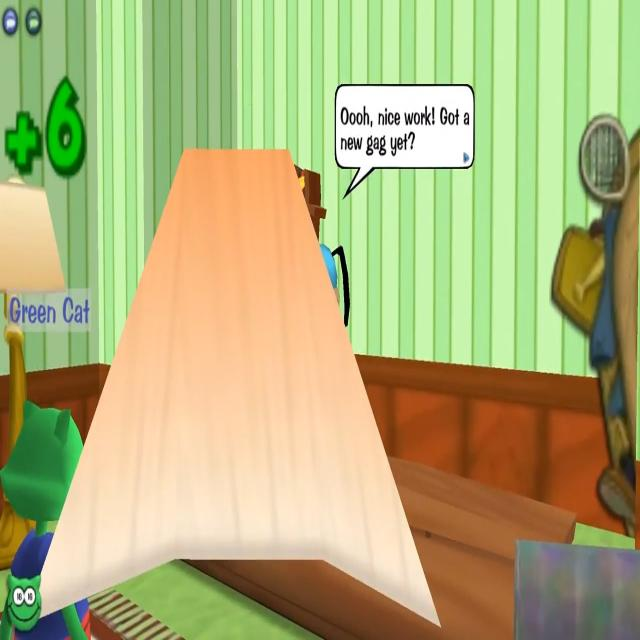npc: (297, 238, 354, 370)
